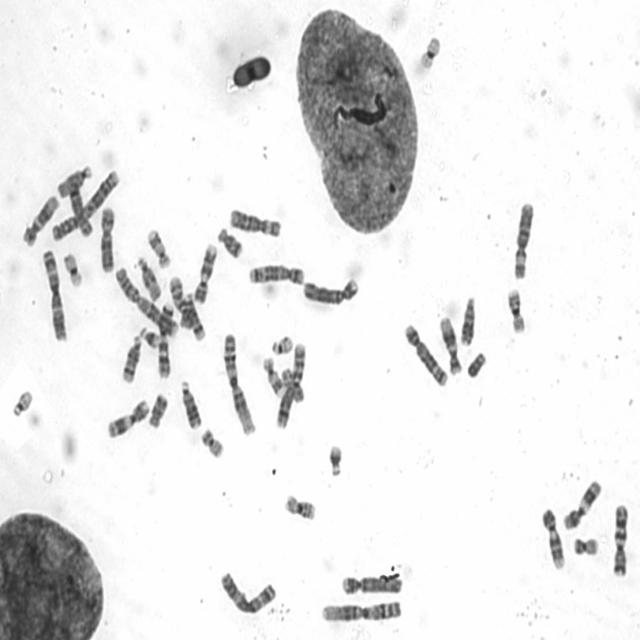A1: (221, 330, 257, 438), (318, 597, 403, 624)
A2: (48, 166, 122, 244), (112, 264, 178, 338)
A3: (39, 245, 68, 343), (218, 569, 278, 616)
B4: (300, 274, 360, 307), (339, 570, 403, 595)
B5: (402, 320, 449, 388), (247, 261, 306, 287)
C10: (168, 276, 194, 331), (292, 342, 309, 405)
C11: (561, 478, 602, 530), (105, 395, 151, 440)
C12: (20, 192, 60, 248), (437, 313, 463, 377)
C6: (510, 198, 536, 281), (228, 205, 282, 240)
C7: (155, 300, 177, 380), (610, 501, 630, 578)
C8: (275, 363, 298, 428), (67, 185, 93, 232)
C9: (539, 505, 567, 571), (192, 240, 218, 305)
D13: (178, 376, 202, 432), (458, 292, 477, 348)
D14: (186, 294, 211, 344), (119, 331, 142, 384)
D15: (55, 161, 93, 199), (136, 253, 162, 303)
E16: (281, 491, 317, 521), (505, 285, 527, 334)
E17: (146, 225, 172, 270), (260, 353, 284, 398)
E18: (214, 222, 243, 260), (146, 389, 168, 430)
F19: (416, 32, 442, 72), (61, 249, 83, 288)
F20: (198, 424, 226, 459), (570, 534, 600, 558)
G21: (326, 442, 344, 478), (138, 324, 158, 350)
G22: (10, 386, 35, 418), (269, 332, 294, 356)
X: (98, 204, 116, 274)
Y: (464, 348, 487, 379)
